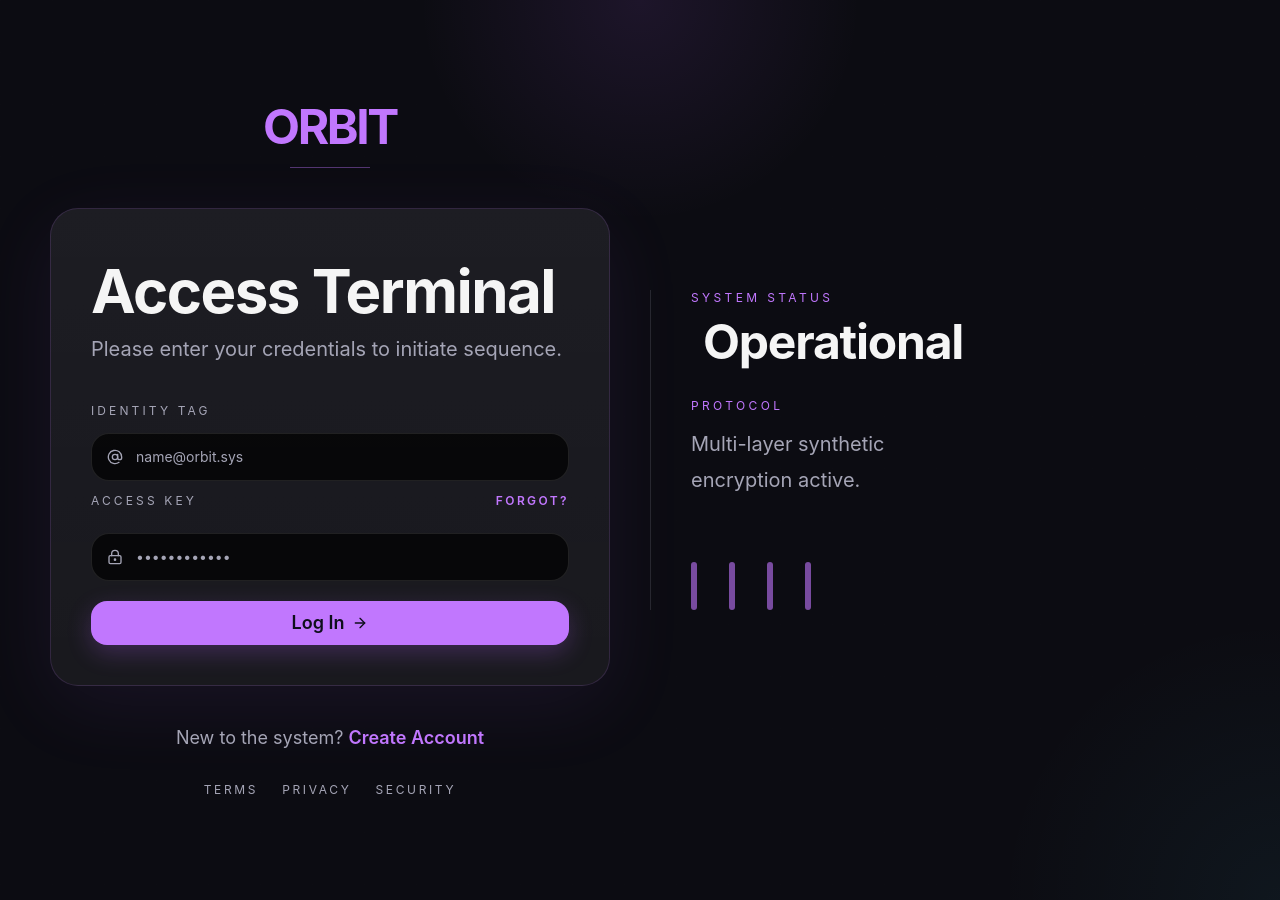
Test: LoginPage › shows a verification shortcut when login fails because the account is inactive
Type "pending@orbit.dev" into the field named "email" at (330, 456), box [91, 432, 569, 480]
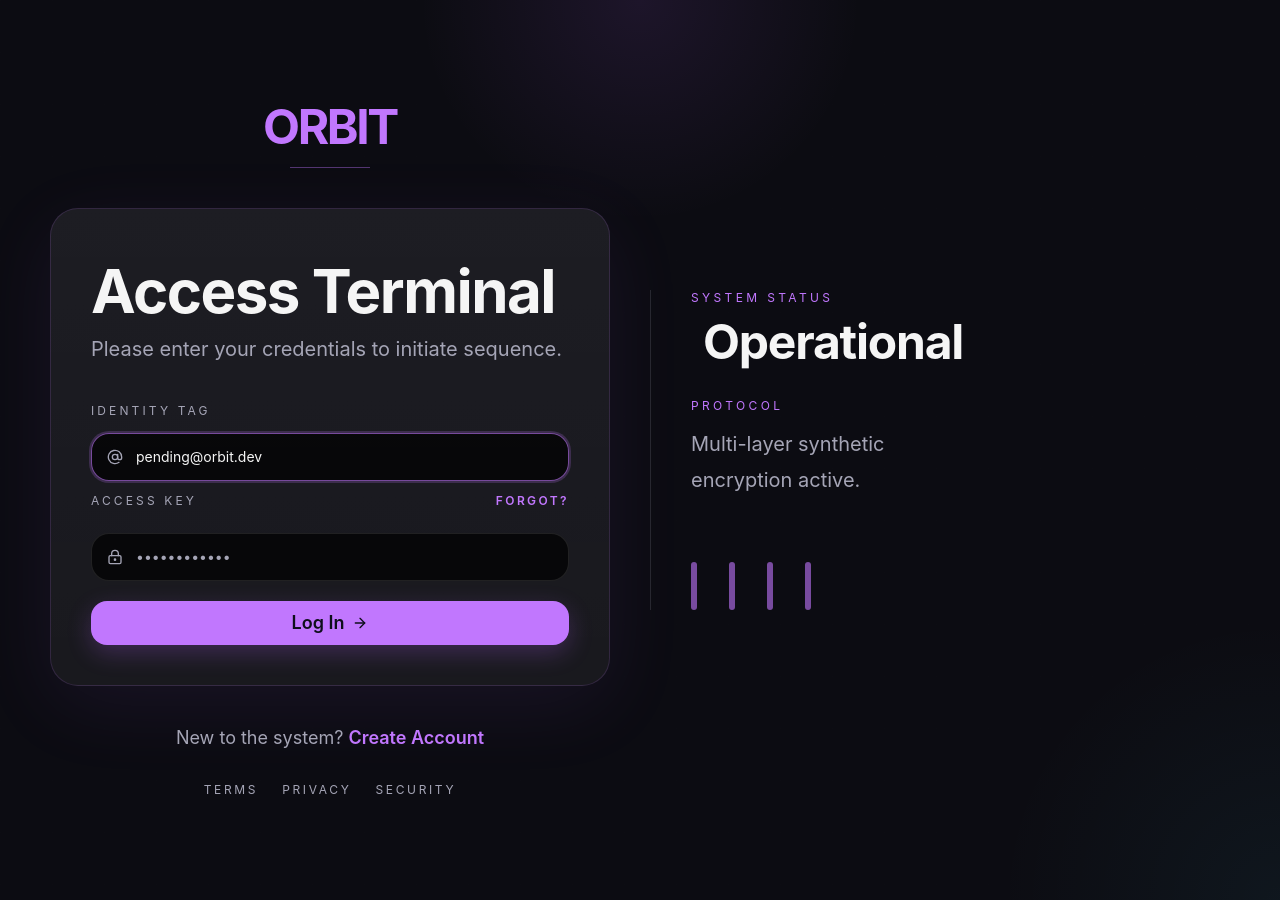
Type "secret123" into the password field named "password" at (330, 556), box [91, 532, 569, 580]
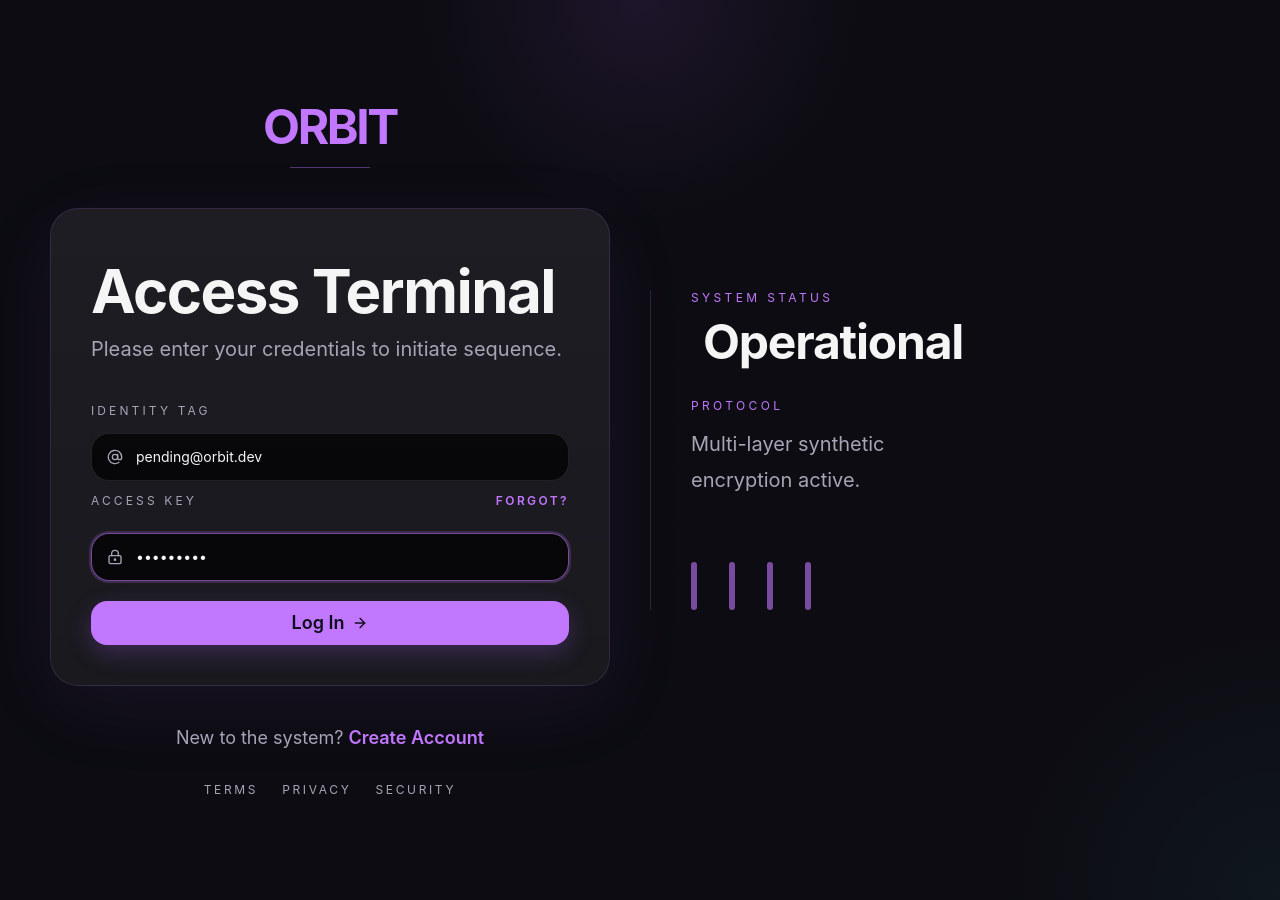
Click the button with aria-label "continue to orbit" at (330, 622), box [91, 600, 569, 644]
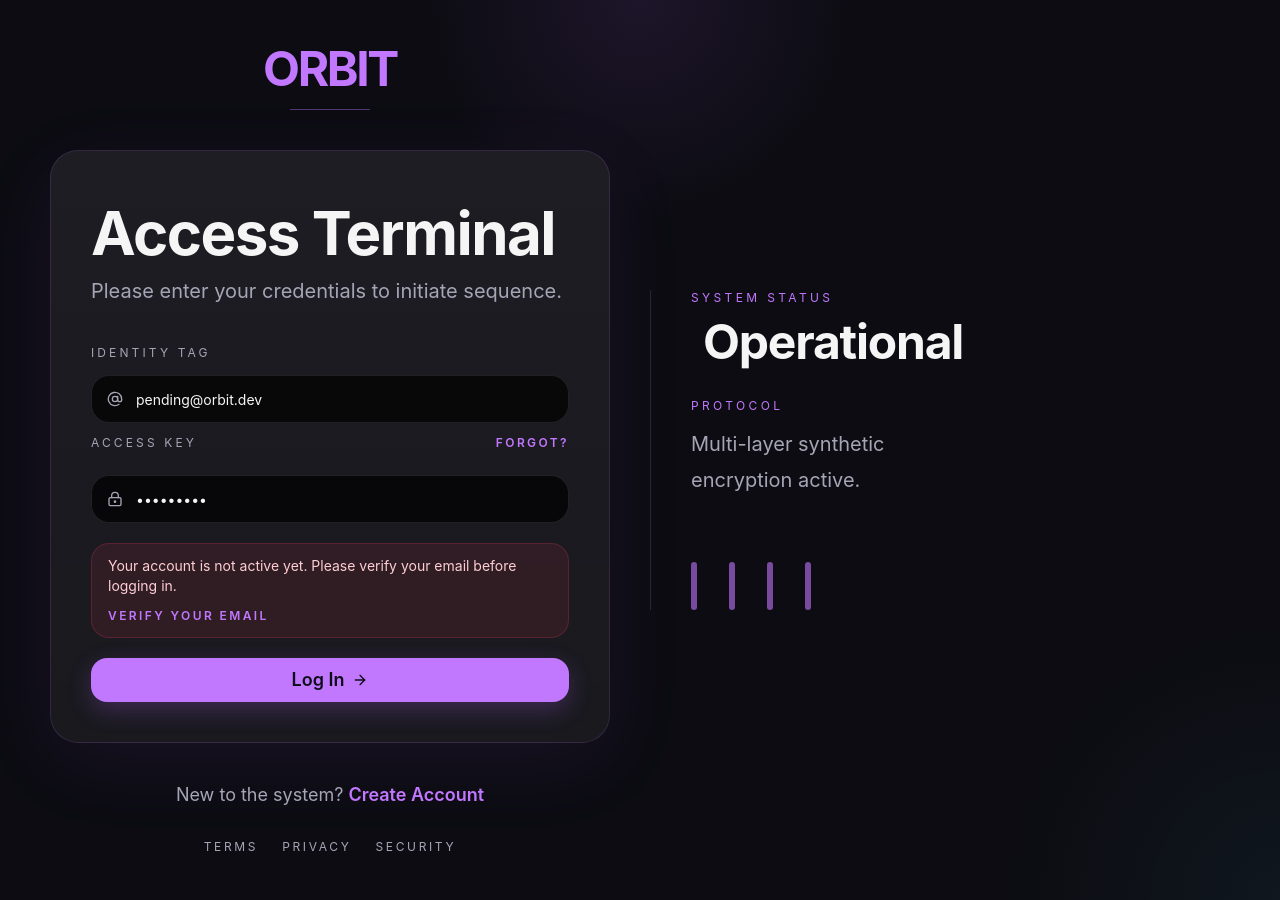
Expected: the text "Your account is not active yet. Please verify your email before logging in." is shown, [108, 556, 552, 596]
